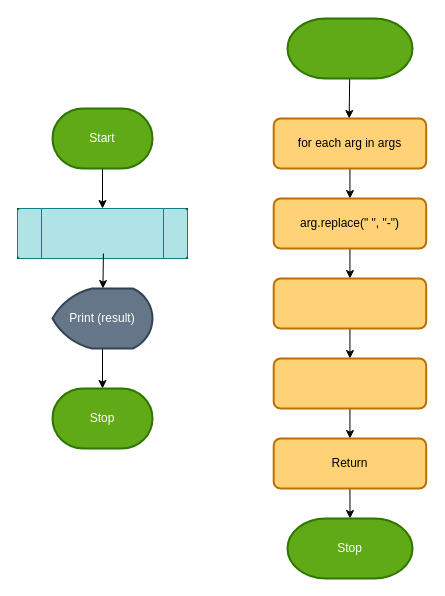
Some shapes in this 445 by 596 pixel diagram are drawn without their labels. Each missing label, with the centre of its shape:
arg.upper(): (x=349, y=303)
Call format_strings with various inputs: (x=102, y=233)
Collect processed and join strings in to one string: (x=349, y=383)
format_string(*args): (x=349, y=48)
